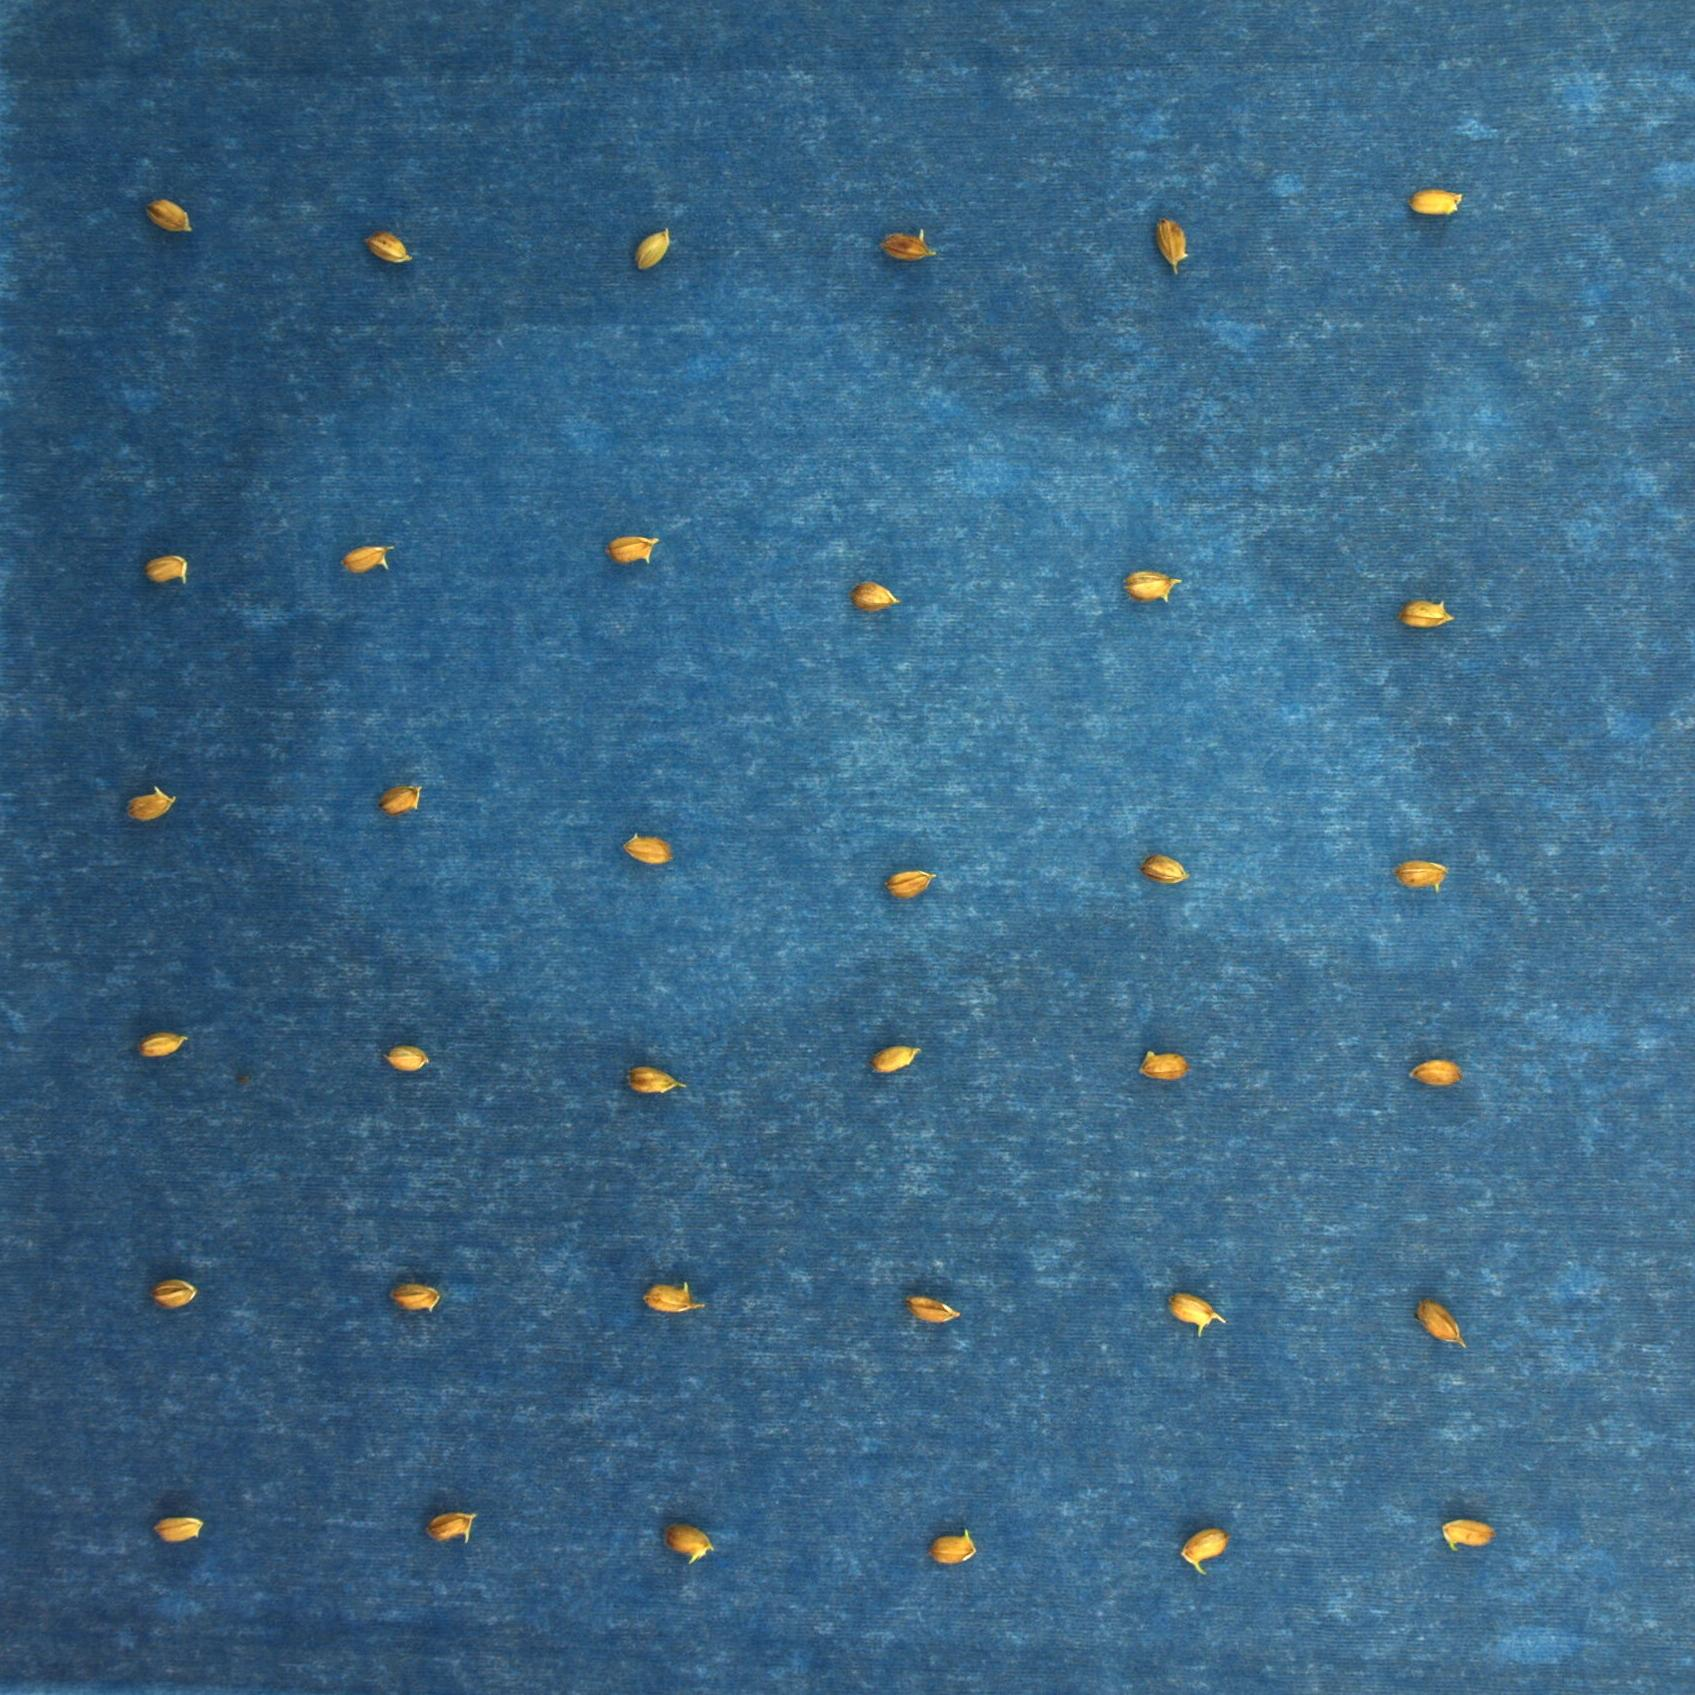not sprout: (1412, 1291, 1473, 1350), (1166, 1291, 1225, 1340), (622, 1059, 692, 1099), (1177, 1523, 1228, 1574), (1119, 565, 1183, 605), (643, 1279, 711, 1316), (877, 227, 939, 265), (1152, 213, 1191, 275), (141, 192, 192, 237), (1402, 594, 1458, 633), (664, 1520, 712, 1565), (928, 1526, 979, 1568), (123, 784, 180, 821), (386, 1279, 445, 1315), (1405, 1055, 1465, 1090), (629, 224, 672, 270), (906, 1291, 962, 1327), (1397, 855, 1450, 893), (879, 868, 938, 900), (868, 1040, 920, 1076), (605, 532, 663, 565), (340, 539, 394, 573), (427, 1506, 477, 1543), (1437, 1520, 1496, 1551), (373, 781, 424, 816), (619, 832, 671, 868), (137, 1028, 189, 1062), (1135, 1048, 1186, 1080), (152, 1510, 203, 1543), (851, 579, 897, 615), (1139, 855, 1191, 886), (380, 1042, 432, 1073), (1411, 188, 1464, 216), (366, 230, 411, 262), (140, 554, 188, 584), (152, 1277, 197, 1309)
